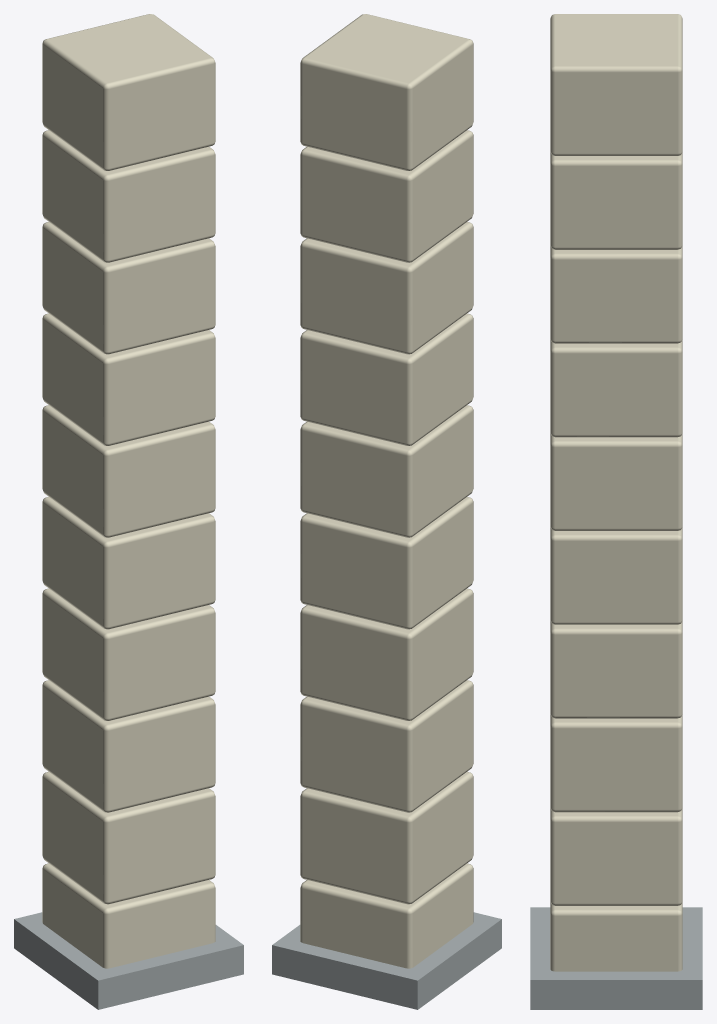
Rendered from modular-survival-base-builder-masonry-pilaster-fba99a93__24222.glb.
3 renders of one model, left to right at view 1: azimuth 30°, elevation 25°; view 2: azimuth 150°, elevation 25°; view 3: azimuth 270°, elevation 25°, orthographic. The views are drawn at different scales.
Visible parts, largest first — view 1: masonry-pilaster; view 2: masonry-pilaster; view 3: masonry-pilaster.
Boxes of the visible parts, x1,y1,x2,y2 form: masonry-pilaster: [14, 14, 243, 1009]; masonry-pilaster: [272, 14, 501, 1009]; masonry-pilaster: [530, 14, 702, 1009].
Bounding box in the file's own units: 0.416 × 2.49 × 0.416.
